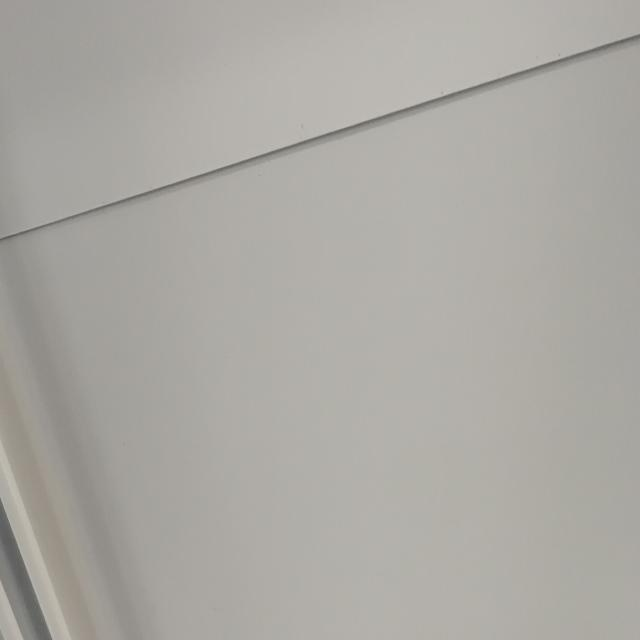fluorescent tube: (0, 38, 197, 640)
